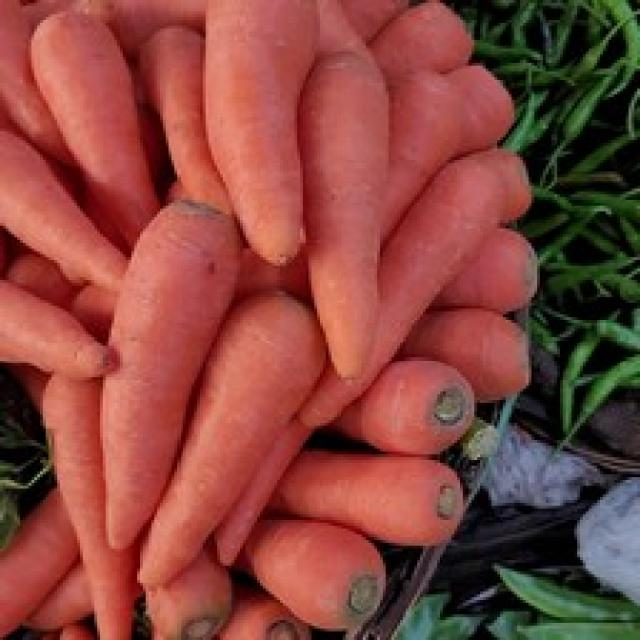Fresh_Carrot: (136, 290, 322, 570), (110, 208, 250, 538), (189, 3, 328, 277), (33, 20, 174, 237), (302, 44, 391, 373)
